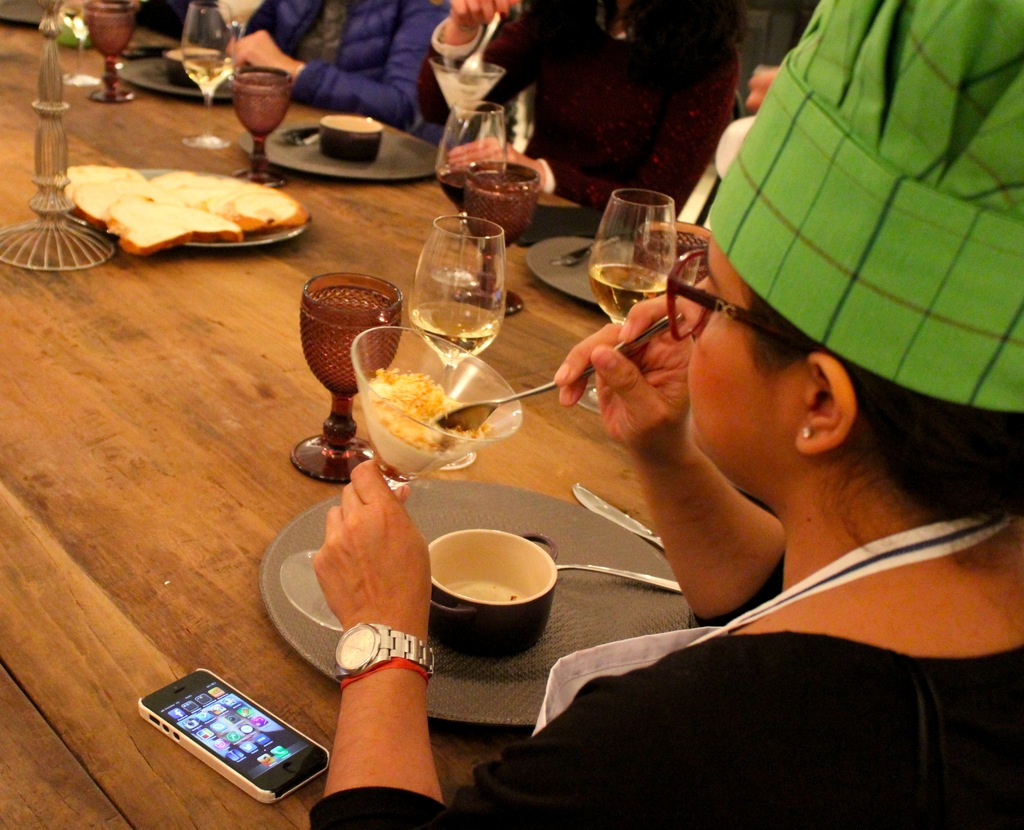Mobile-phone: (140, 665, 330, 807)
